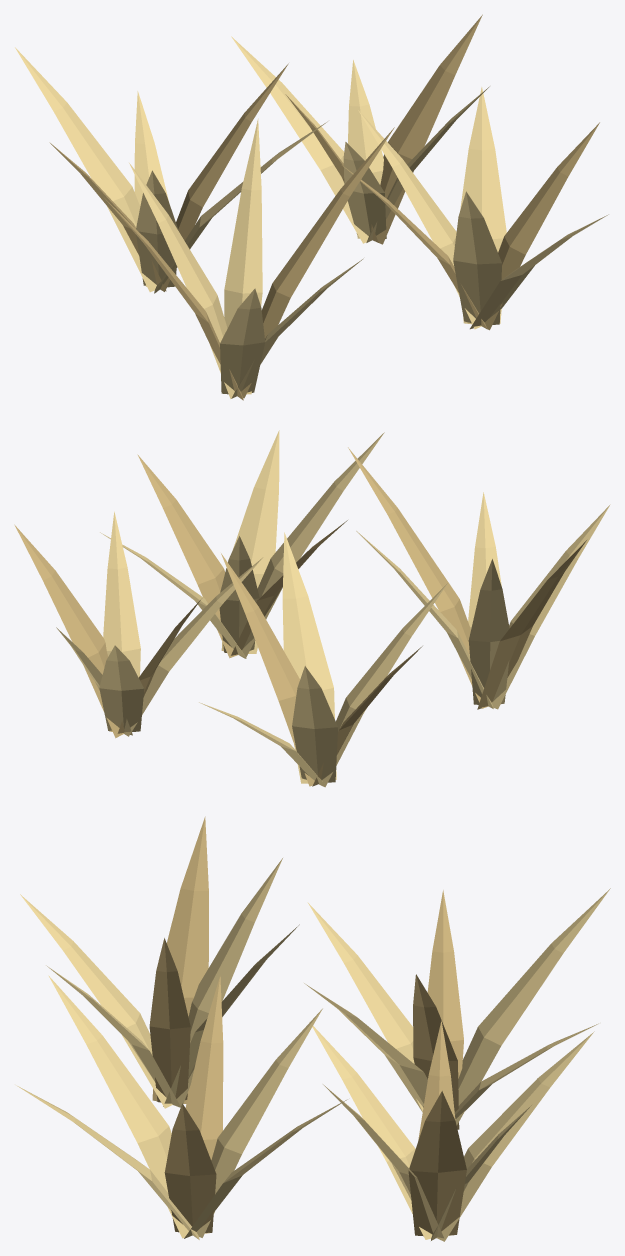
Rendered from Kit_DryGrass.fbx.
3 renders of one model, top to bottom at view 1: azimuth 30°, elevation 25°; view 2: azimuth 150°, elevation 25°; view 3: azimuth 270°, elevation 25°, orthographic. The views are drawn at different scales.
Parts seen in each view (by area): view 1: Kit_DryGrass; view 2: Kit_DryGrass; view 3: Kit_DryGrass.
Boxes of the visible parts, bbox=[...] form: Kit_DryGrass: bbox=[15, 14, 608, 400]; Kit_DryGrass: bbox=[14, 430, 610, 787]; Kit_DryGrass: bbox=[16, 816, 610, 1241].
Size of the model in its own units: 1 by 0.45 by 1.
